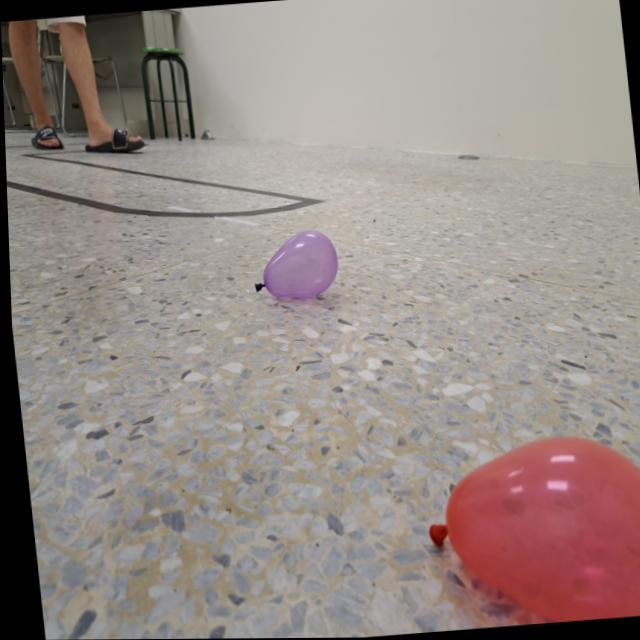other: (246, 226, 340, 303)
red: (415, 428, 640, 632)
